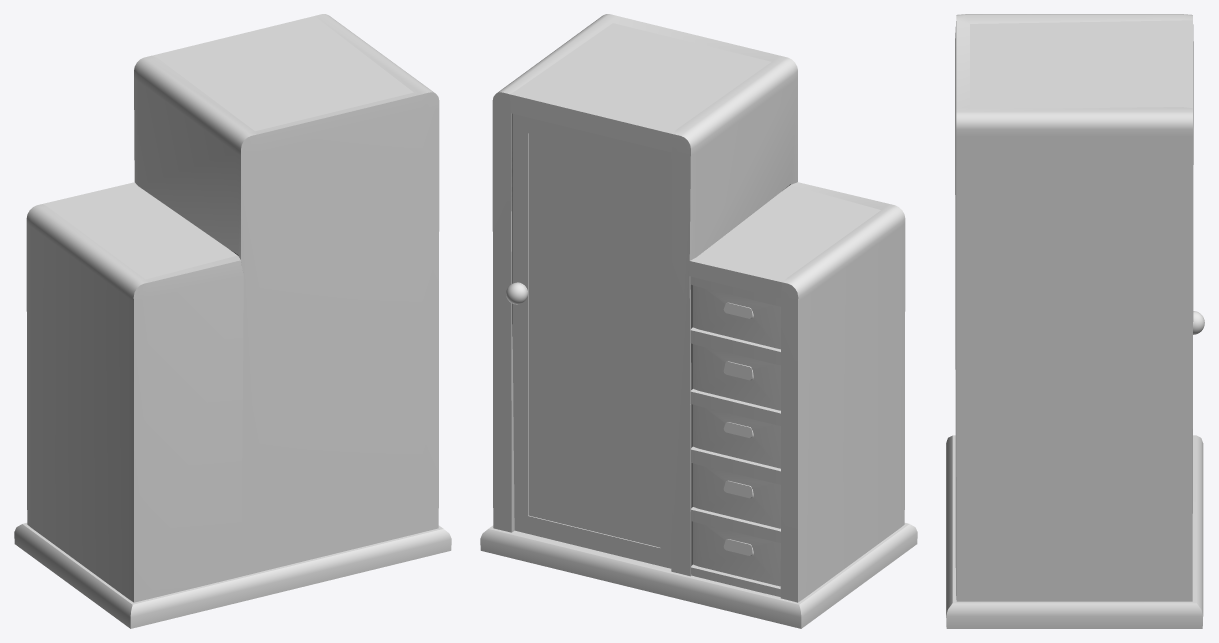
The model's file is Cabinet.fbx.
3 renders of one model, left to right at view 1: azimuth 30°, elevation 25°; view 2: azimuth 150°, elevation 25°; view 3: azimuth 270°, elevation 25°, orthographic. The views are drawn at different scales.
Visible parts, largest first — view 1: Cabinet; view 2: Cabinet; view 3: Cabinet.
Boxes of the visible parts, box(x1,y1,x2,y2) form: Cabinet: box(14, 14, 451, 628); Cabinet: box(480, 14, 917, 628); Cabinet: box(946, 14, 1204, 628).
Bounding box in the file's own units: 325 × 446 × 206.
